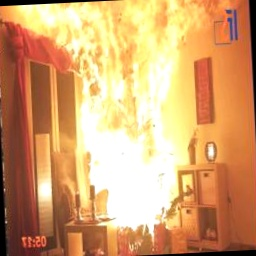fire: (37, 0, 219, 231)
